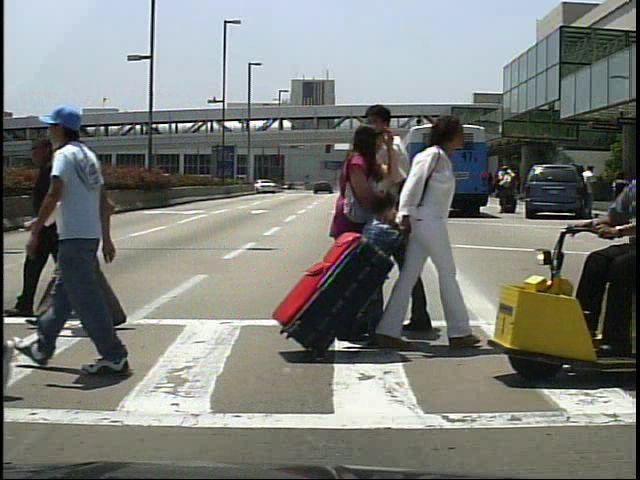person: (42, 105, 150, 388), (367, 114, 475, 365), (354, 100, 449, 350), (331, 122, 398, 356), (47, 136, 112, 330), (14, 130, 76, 324), (351, 182, 398, 318), (582, 164, 602, 218), (498, 166, 516, 219), (501, 165, 520, 214)
